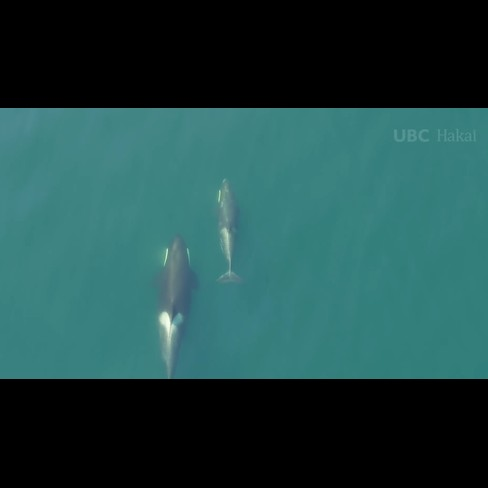orca: (143, 229, 198, 379), (208, 172, 250, 287)
